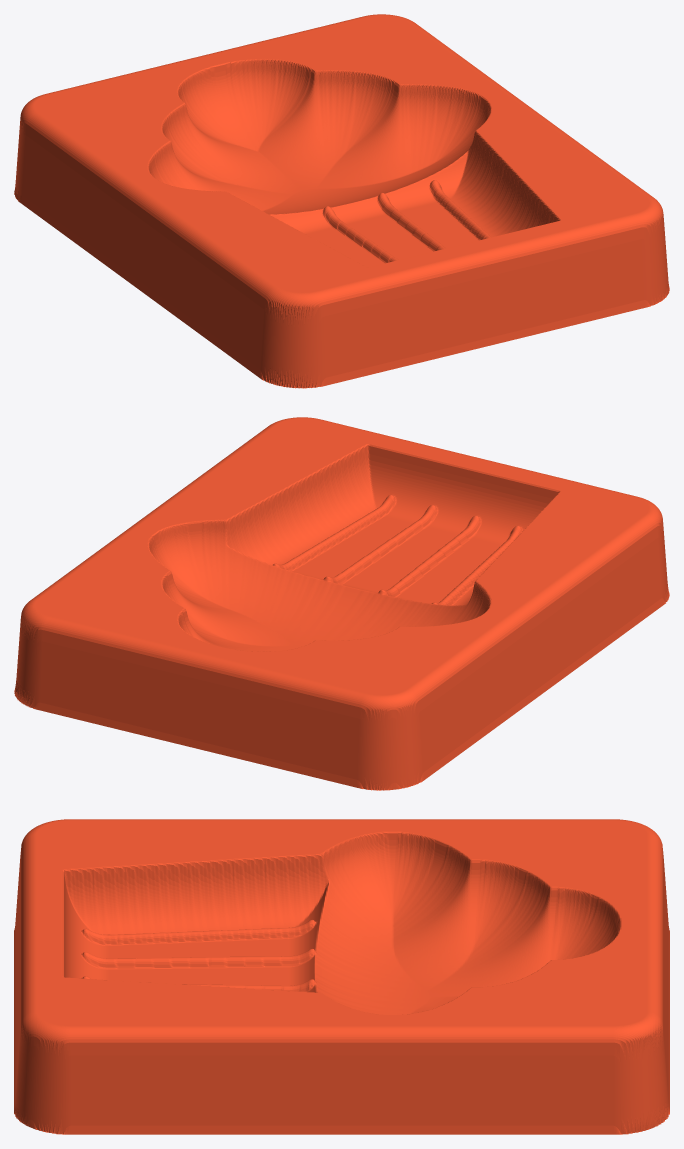
File: mold.glb
3 renders of one model, top to bottom at view 1: azimuth 30°, elevation 25°; view 2: azimuth 150°, elevation 25°; view 3: azimuth 270°, elevation 25°, orthographic. The views are drawn at different scales.
Visible parts, largest first — view 1: geometry_0; view 2: geometry_0; view 3: geometry_0.
Part boxes in pixels (x1=…): geometry_0: x1=14, y1=14, x2=669, y2=388; geometry_0: x1=14, y1=417, x2=669, y2=790; geometry_0: x1=14, y1=819, x2=669, y2=1134.
Size of the model in its own units: 0.085 by 0.0175 by 0.105.
